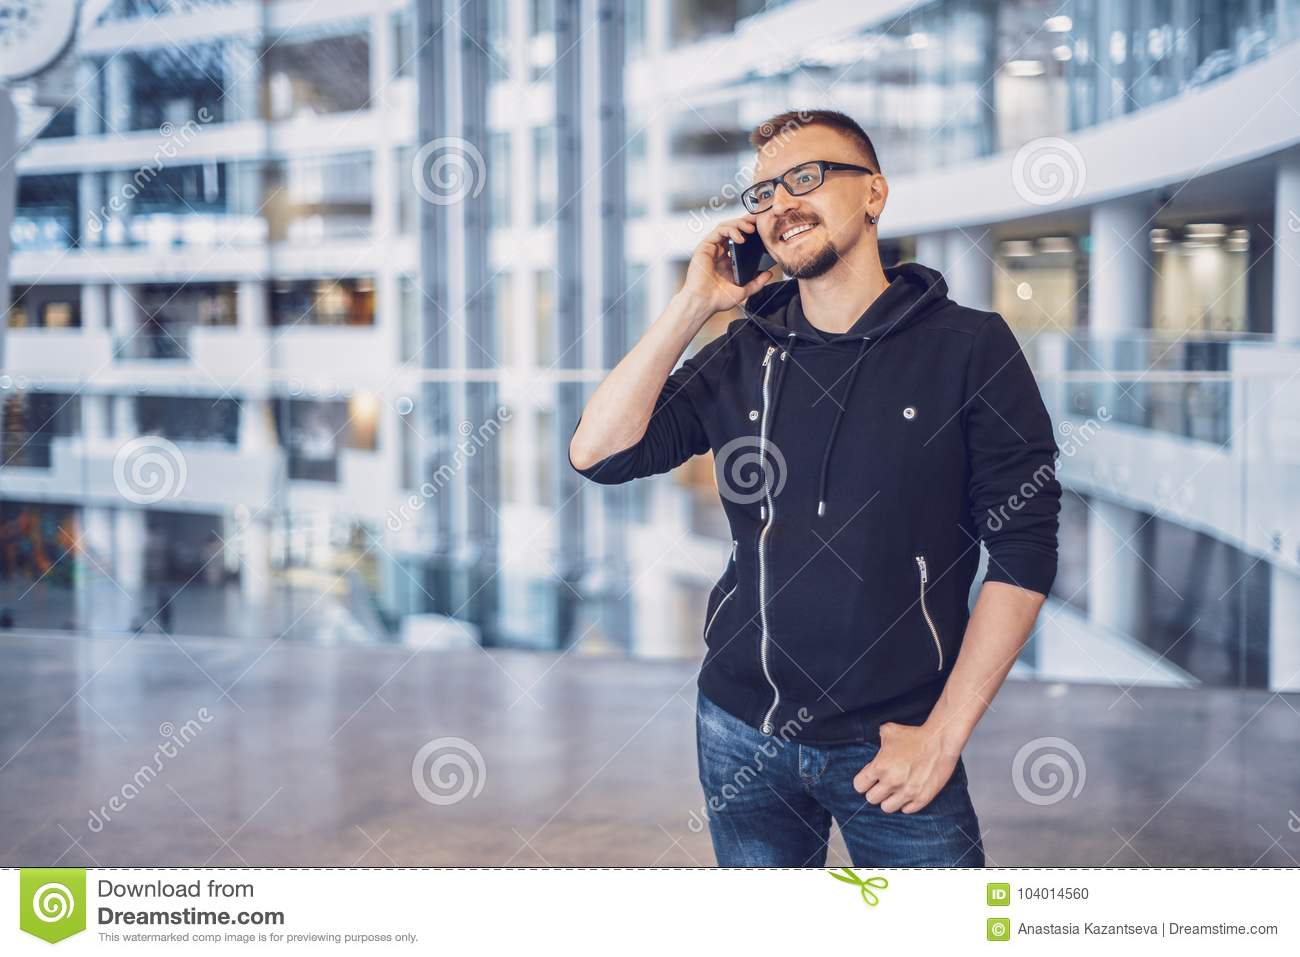phone: (724, 222, 776, 288)
talk: (682, 159, 844, 311)
